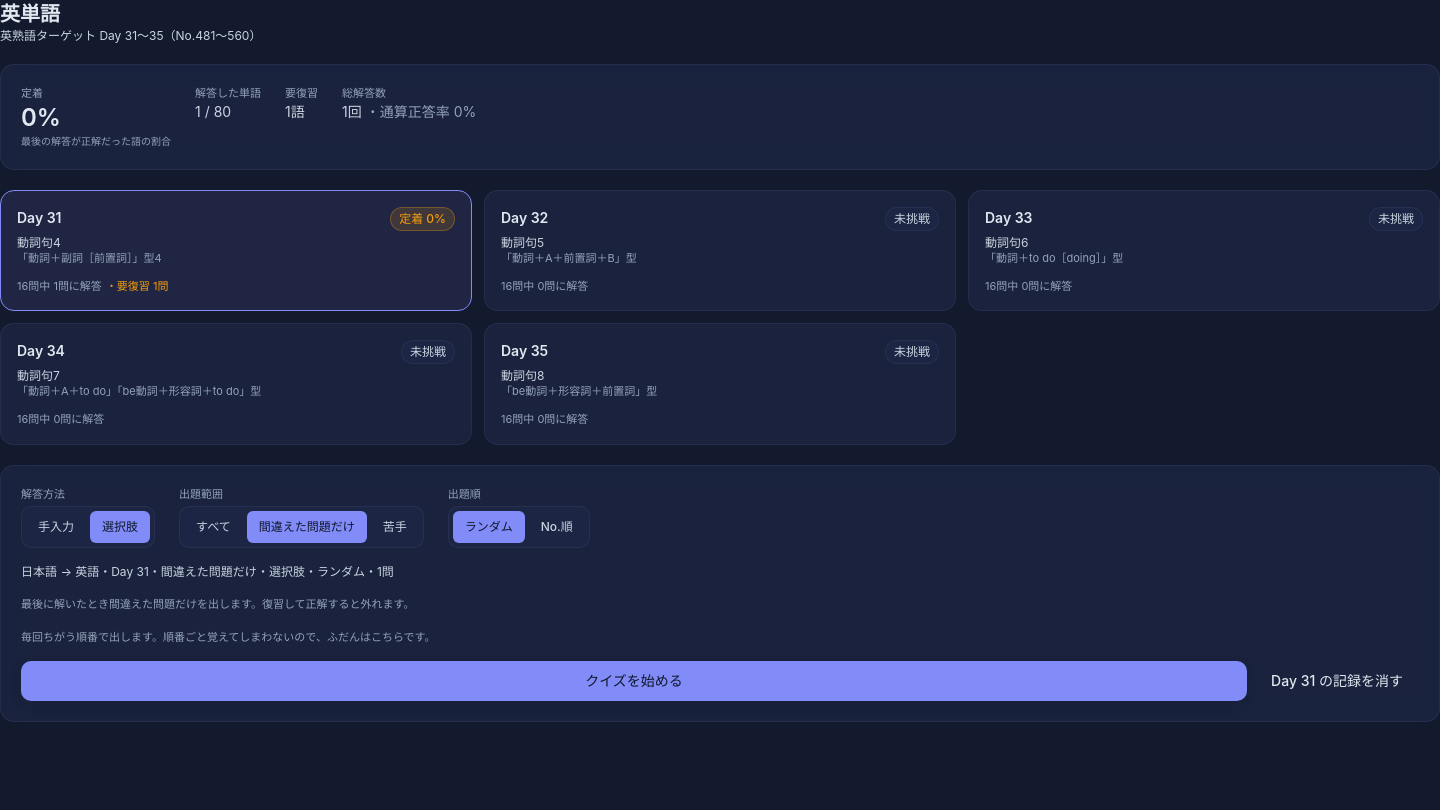
it: クイズを解く › locks the answer once given
Step 1. Click the button "クイズを始める" → (634, 681), box x1=21 y1=661 x2=1247 y2=701
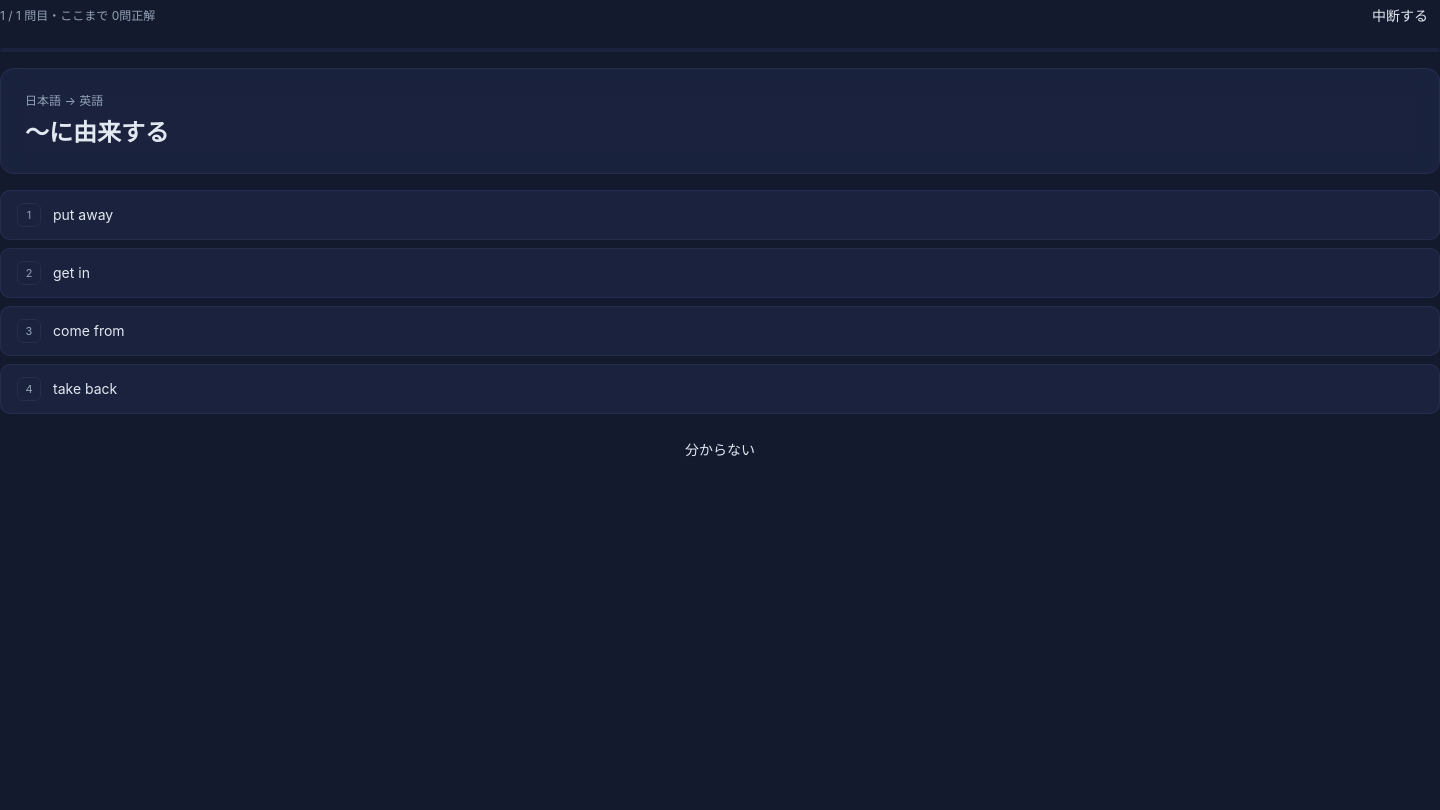
Step 2. Click the button "1 put away" → (83, 214), box x1=0 y1=190 x2=1439 y2=240
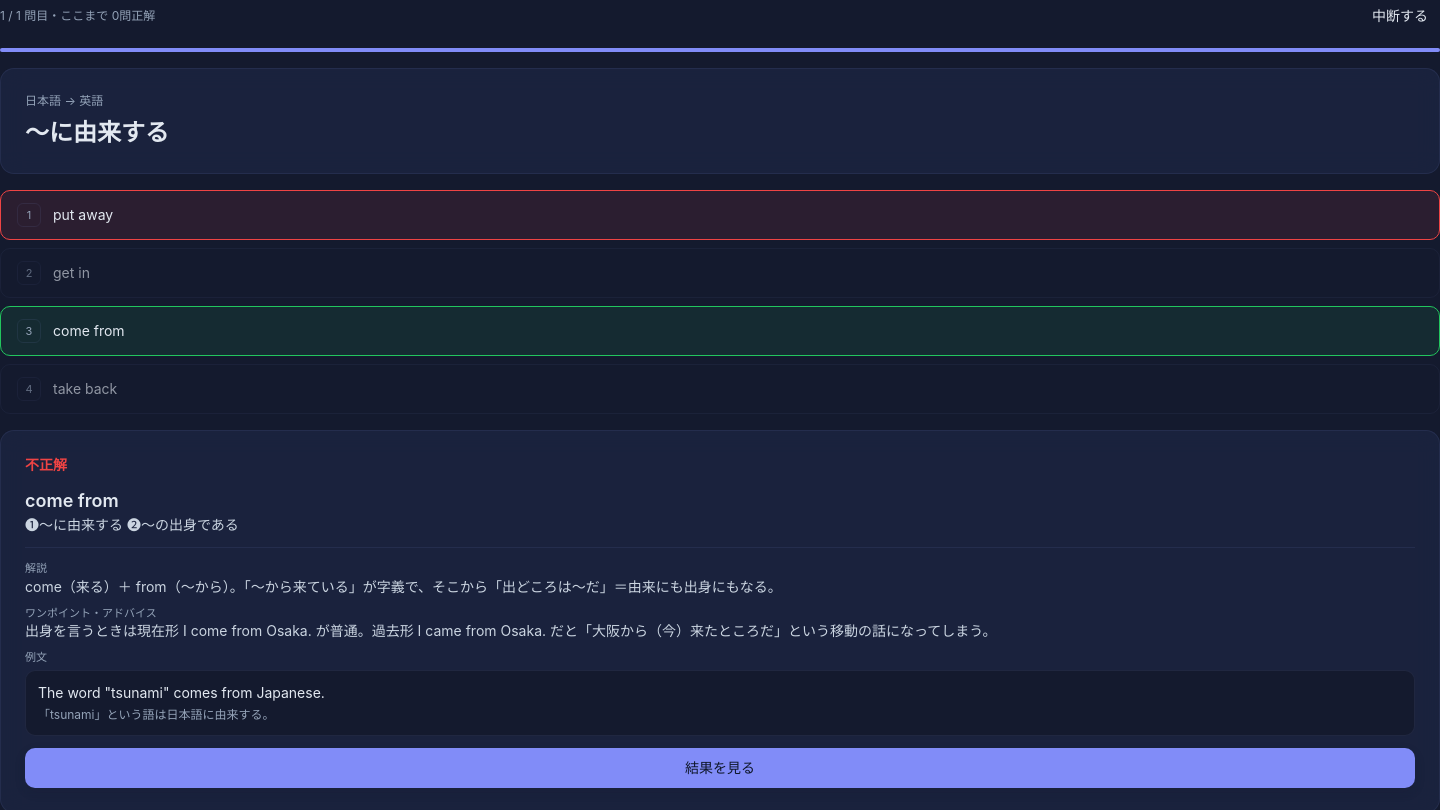
Check: the button "2 get in" is disabled, box x1=0 y1=248 x2=1439 y2=298
Check: the button "4 take back" is disabled, box x1=0 y1=364 x2=1439 y2=414
Check: the text "不正解" is shown, box x1=25 y1=456 x2=67 y2=473
